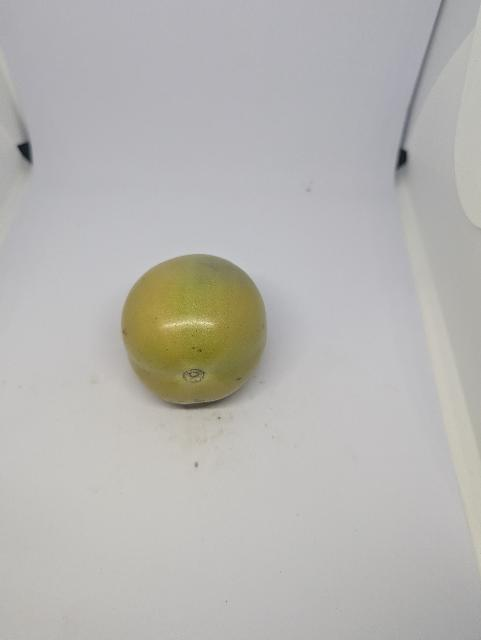breaker: (119, 252, 271, 407)
